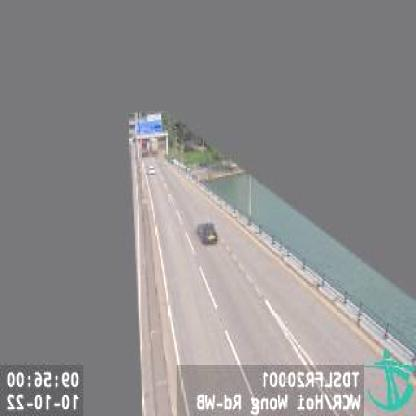Car: (198, 221, 218, 243), (148, 164, 157, 175)
